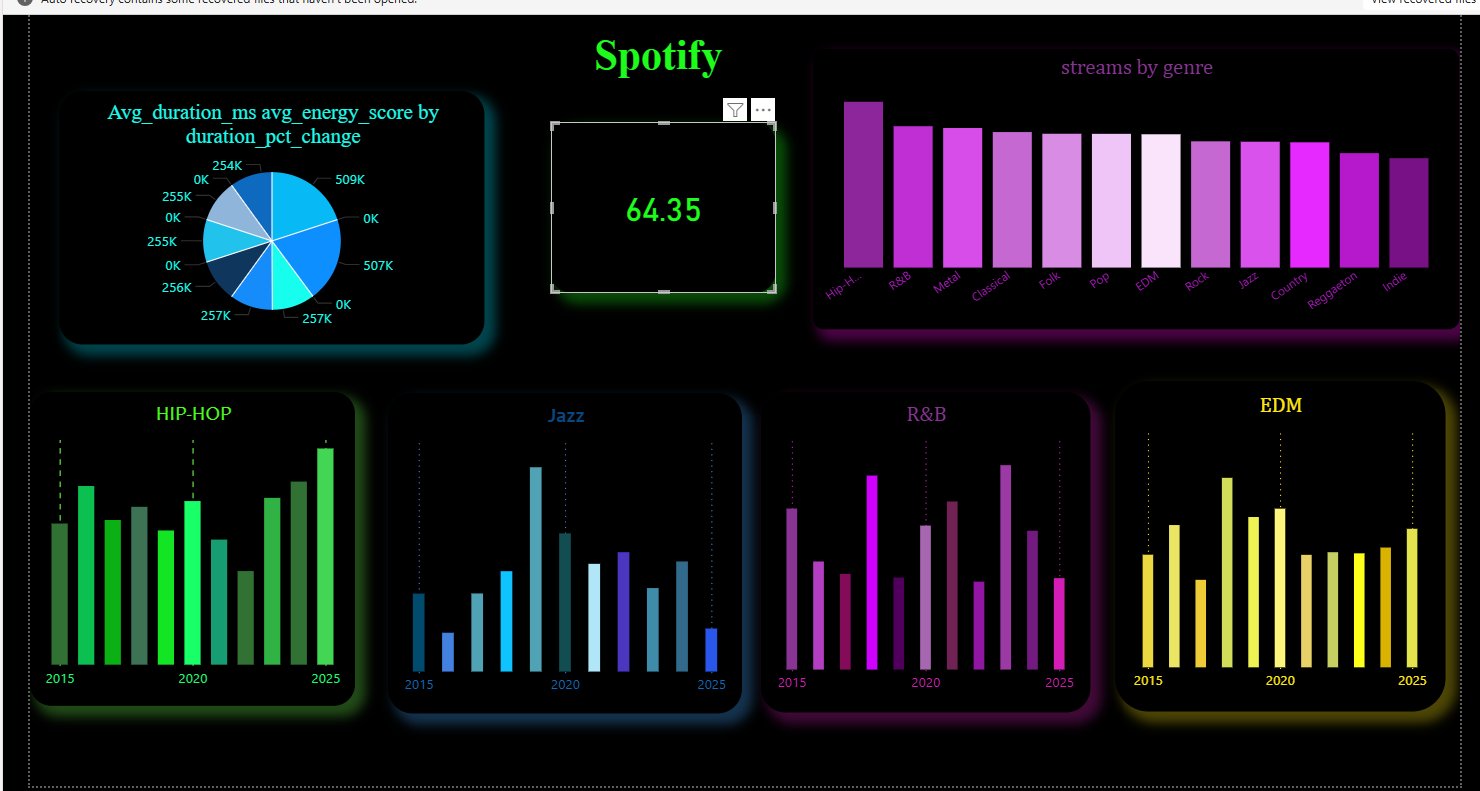

What the dashboard file says about the page in this screenshot:
{"tool":"powerbi","page":{"name":"Page 1","canvas":[1280,720],"ordinal":0},"visuals":[{"type":"ribbonChart","title":"HIP-HOP ","fields":{"Y":["Sum(spotify Q 3 hip hop.total_streams)"],"Category":["spotify Q 3 hip hop.release_year"],"Series":["spotify Q 3 hip hop.song_count"]},"box":[0,367.2,291,281.2],"z":0},{"type":"ribbonChart","title":"Jazz ","fields":{"Category":["spotify Q3 jazz.release_year"],"Y":["Sum(spotify Q3 jazz.total_streams)"],"Series":["spotify Q3 jazz.song_count"]},"box":[320.6,368.1,317,287.5],"z":1000},{"type":"ribbonChart","title":"R&B","fields":{"Category":["spotify Q3 R&B.release_year"],"Y":["Sum(spotify Q3 R&B.total_streams)"],"Series":["spotify Q3 R&B.song_count"]},"box":[654.6,367.2,294.6,286.6],"z":2000},{"type":"ribbonChart","title":"EDM","fields":{"Category":["spotify Q3 EDM.release_year"],"Y":["Sum(spotify Q3 EDM.total_streams)"],"Series":["spotify Q3 EDM.song_count"]},"box":[971.6,357.3,295.5,296.4],"z":3000},{"type":"clusteredColumnChart","title":"streams by genre","fields":{"Category":["spotify Q2 3.genre"],"Y":["Sum(spotify Q2 3.total_genre_streams)"]},"box":[701.2,60,578.5,250.7],"z":4000},{"type":"pieChart","title":" Avg_duration_ms  avg_energy_score by duration_pct_change","fields":{"Y":["Sum(spotify Q7.avg_duration_ms)","Sum(spotify Q7.avg_energy_score)"],"Category":["spotify Q7.duration_pct_change","spotify Q7.energy_pct_change","spotify Q7.release_year"]},"box":[26,97.6,381.5,226.6],"z":5000},{"type":"textbox","box":[466.6,38.5,201.5,59.1],"z":6000},{"type":"card","fields":{"Values":["Sum(spotify Q5.top_1_percent_market_share)"]},"box":[466.6,125.4,201.5,153.1],"z":7000}]}

Visuals, with their boxes on the page's 1280x720 design canvas (x1, y1, x2, y2). These are canvas units, not pixel positions in the 1480x791 screenshot, which may show the page scaled, cropped or inside an application window:
"HIP-HOP " ribbonChart: (x1=0, y1=367, x2=291, y2=648)
"Jazz " ribbonChart: (x1=321, y1=368, x2=638, y2=656)
"R&B" ribbonChart: (x1=655, y1=367, x2=949, y2=654)
"EDM" ribbonChart: (x1=972, y1=357, x2=1267, y2=654)
"streams by genre" clusteredColumnChart: (x1=701, y1=60, x2=1280, y2=311)
" Avg_duration_ms  avg_energy_score by duration_pct_change" pieChart: (x1=26, y1=98, x2=408, y2=324)
textbox: (x1=467, y1=38, x2=668, y2=98)
card - Sum(spotify Q5.top_1_percent_market_share): (x1=467, y1=125, x2=668, y2=278)
